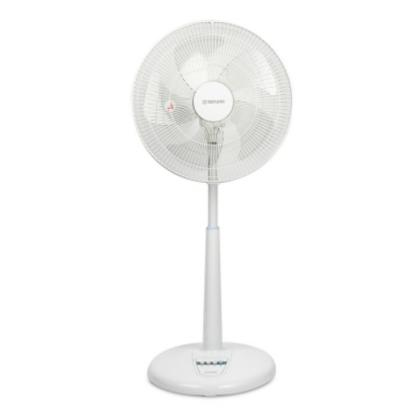fan: (128, 14, 295, 404)
